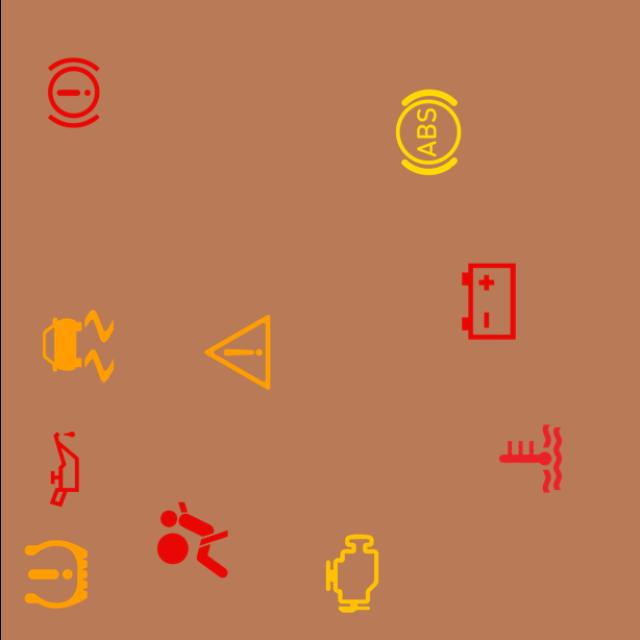Anti Lock Braking System: (380, 86, 474, 180)
Braking System Issue: (26, 46, 120, 140)
Charging System Issue: (441, 254, 535, 348)
Check Engine: (304, 526, 398, 620)
Electronic Stability Problem -ESP-: (30, 299, 124, 393)
Engine Overheating Warning Light: (482, 412, 576, 506)
Low Engine Oil Warning Light: (16, 422, 110, 516)
Low Tire Pressure Warning Light: (8, 528, 102, 622)
Master warning light: (190, 306, 284, 400)
SRS-Airbag: (145, 493, 239, 587)
